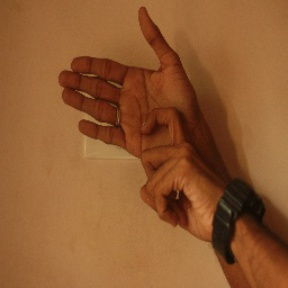R: (61, 8, 204, 199)
